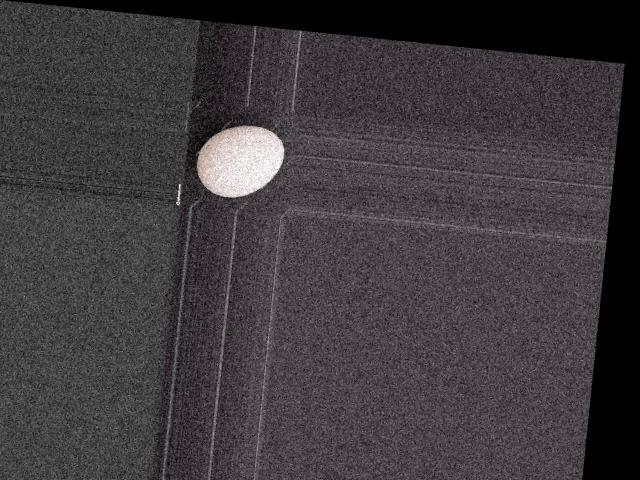egg: (193, 120, 286, 201)
